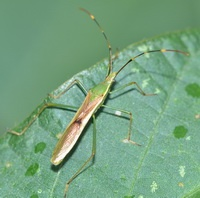insect: (0, 28, 199, 197)
